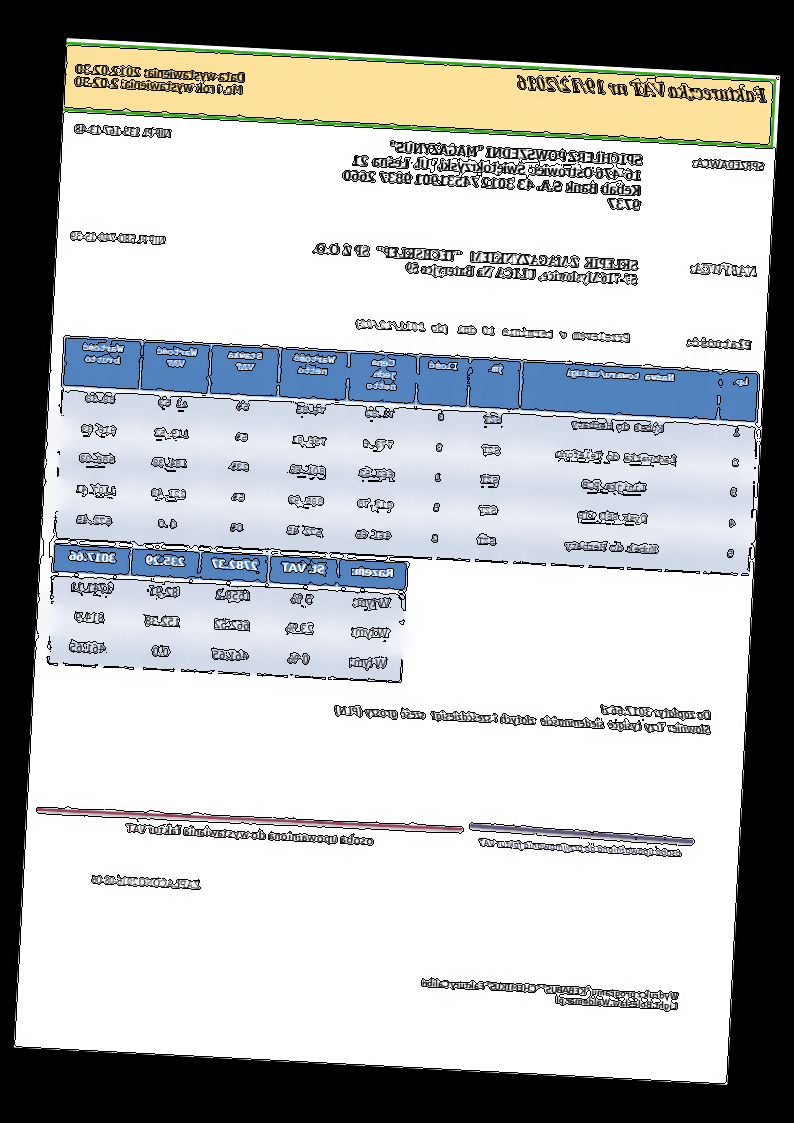Table: (52, 334, 761, 578), (46, 543, 409, 684)
TextBox: (340, 136, 646, 213), (333, 688, 714, 739), (311, 240, 640, 289), (418, 975, 680, 1012), (354, 315, 633, 347), (514, 72, 769, 107), (126, 820, 376, 849), (73, 60, 247, 97), (476, 836, 684, 862), (90, 871, 204, 892), (68, 228, 167, 249), (71, 120, 173, 140), (688, 258, 761, 280), (692, 155, 766, 174), (683, 334, 754, 352)
